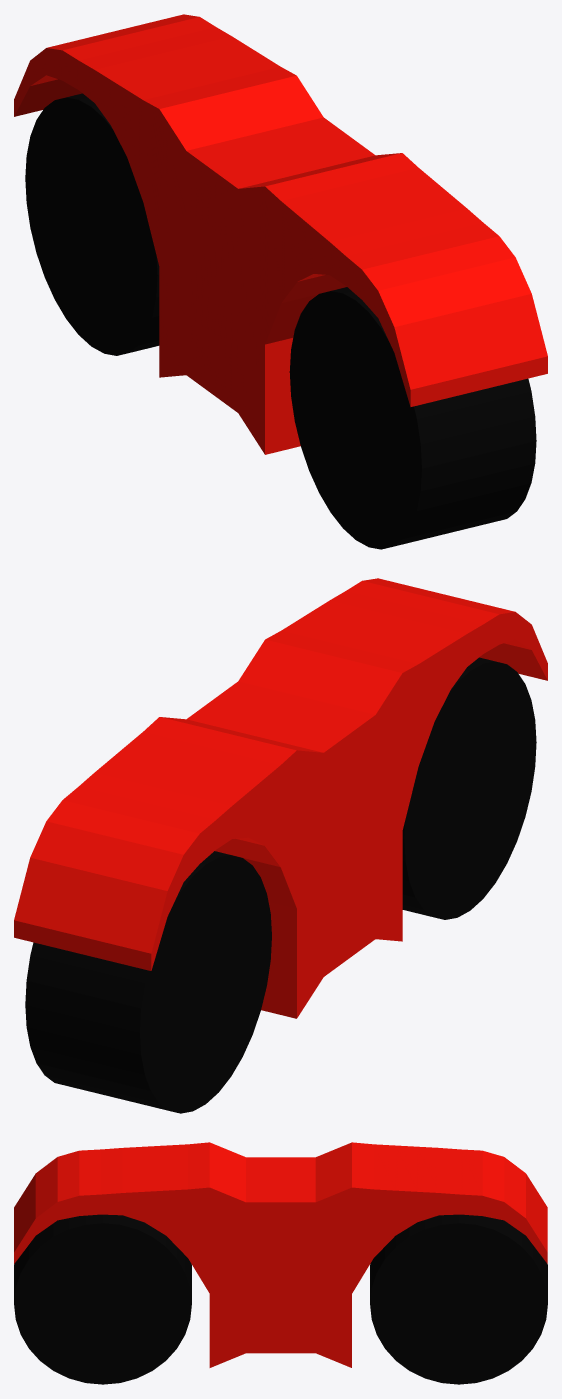
The model's file is LightGroundModel.fbx.
3 renders of one model, top to bottom at view 1: azimuth 30°, elevation 25°; view 2: azimuth 150°, elevation 25°; view 3: azimuth 270°, elevation 25°, orthographic. The views are drawn at different scales.
Parts seen in each view (by area): view 1: Cylinder.001; view 2: Cylinder.001; view 3: Cylinder.001.
Boxes of the visible parts, x1,y1,x2,y2 form: Cylinder.001: [14, 14, 547, 549]; Cylinder.001: [14, 578, 547, 1113]; Cylinder.001: [14, 1142, 547, 1384].
Bounding box in the file's own units: 30 × 62.26 × 150.
